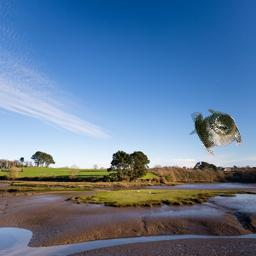Swallow: (188, 109, 242, 157)
